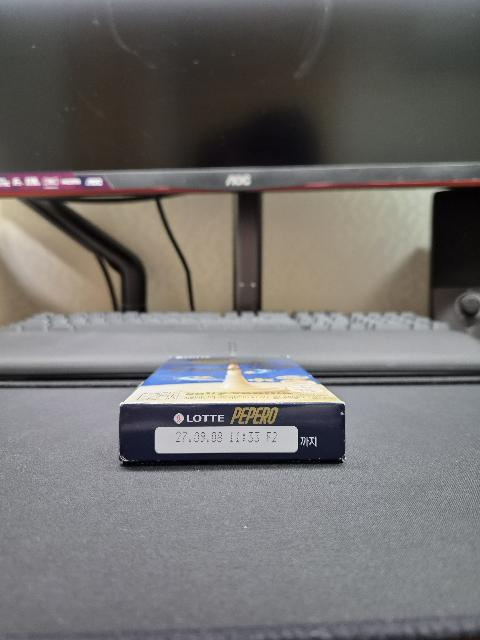pepero: (119, 355, 346, 463)
